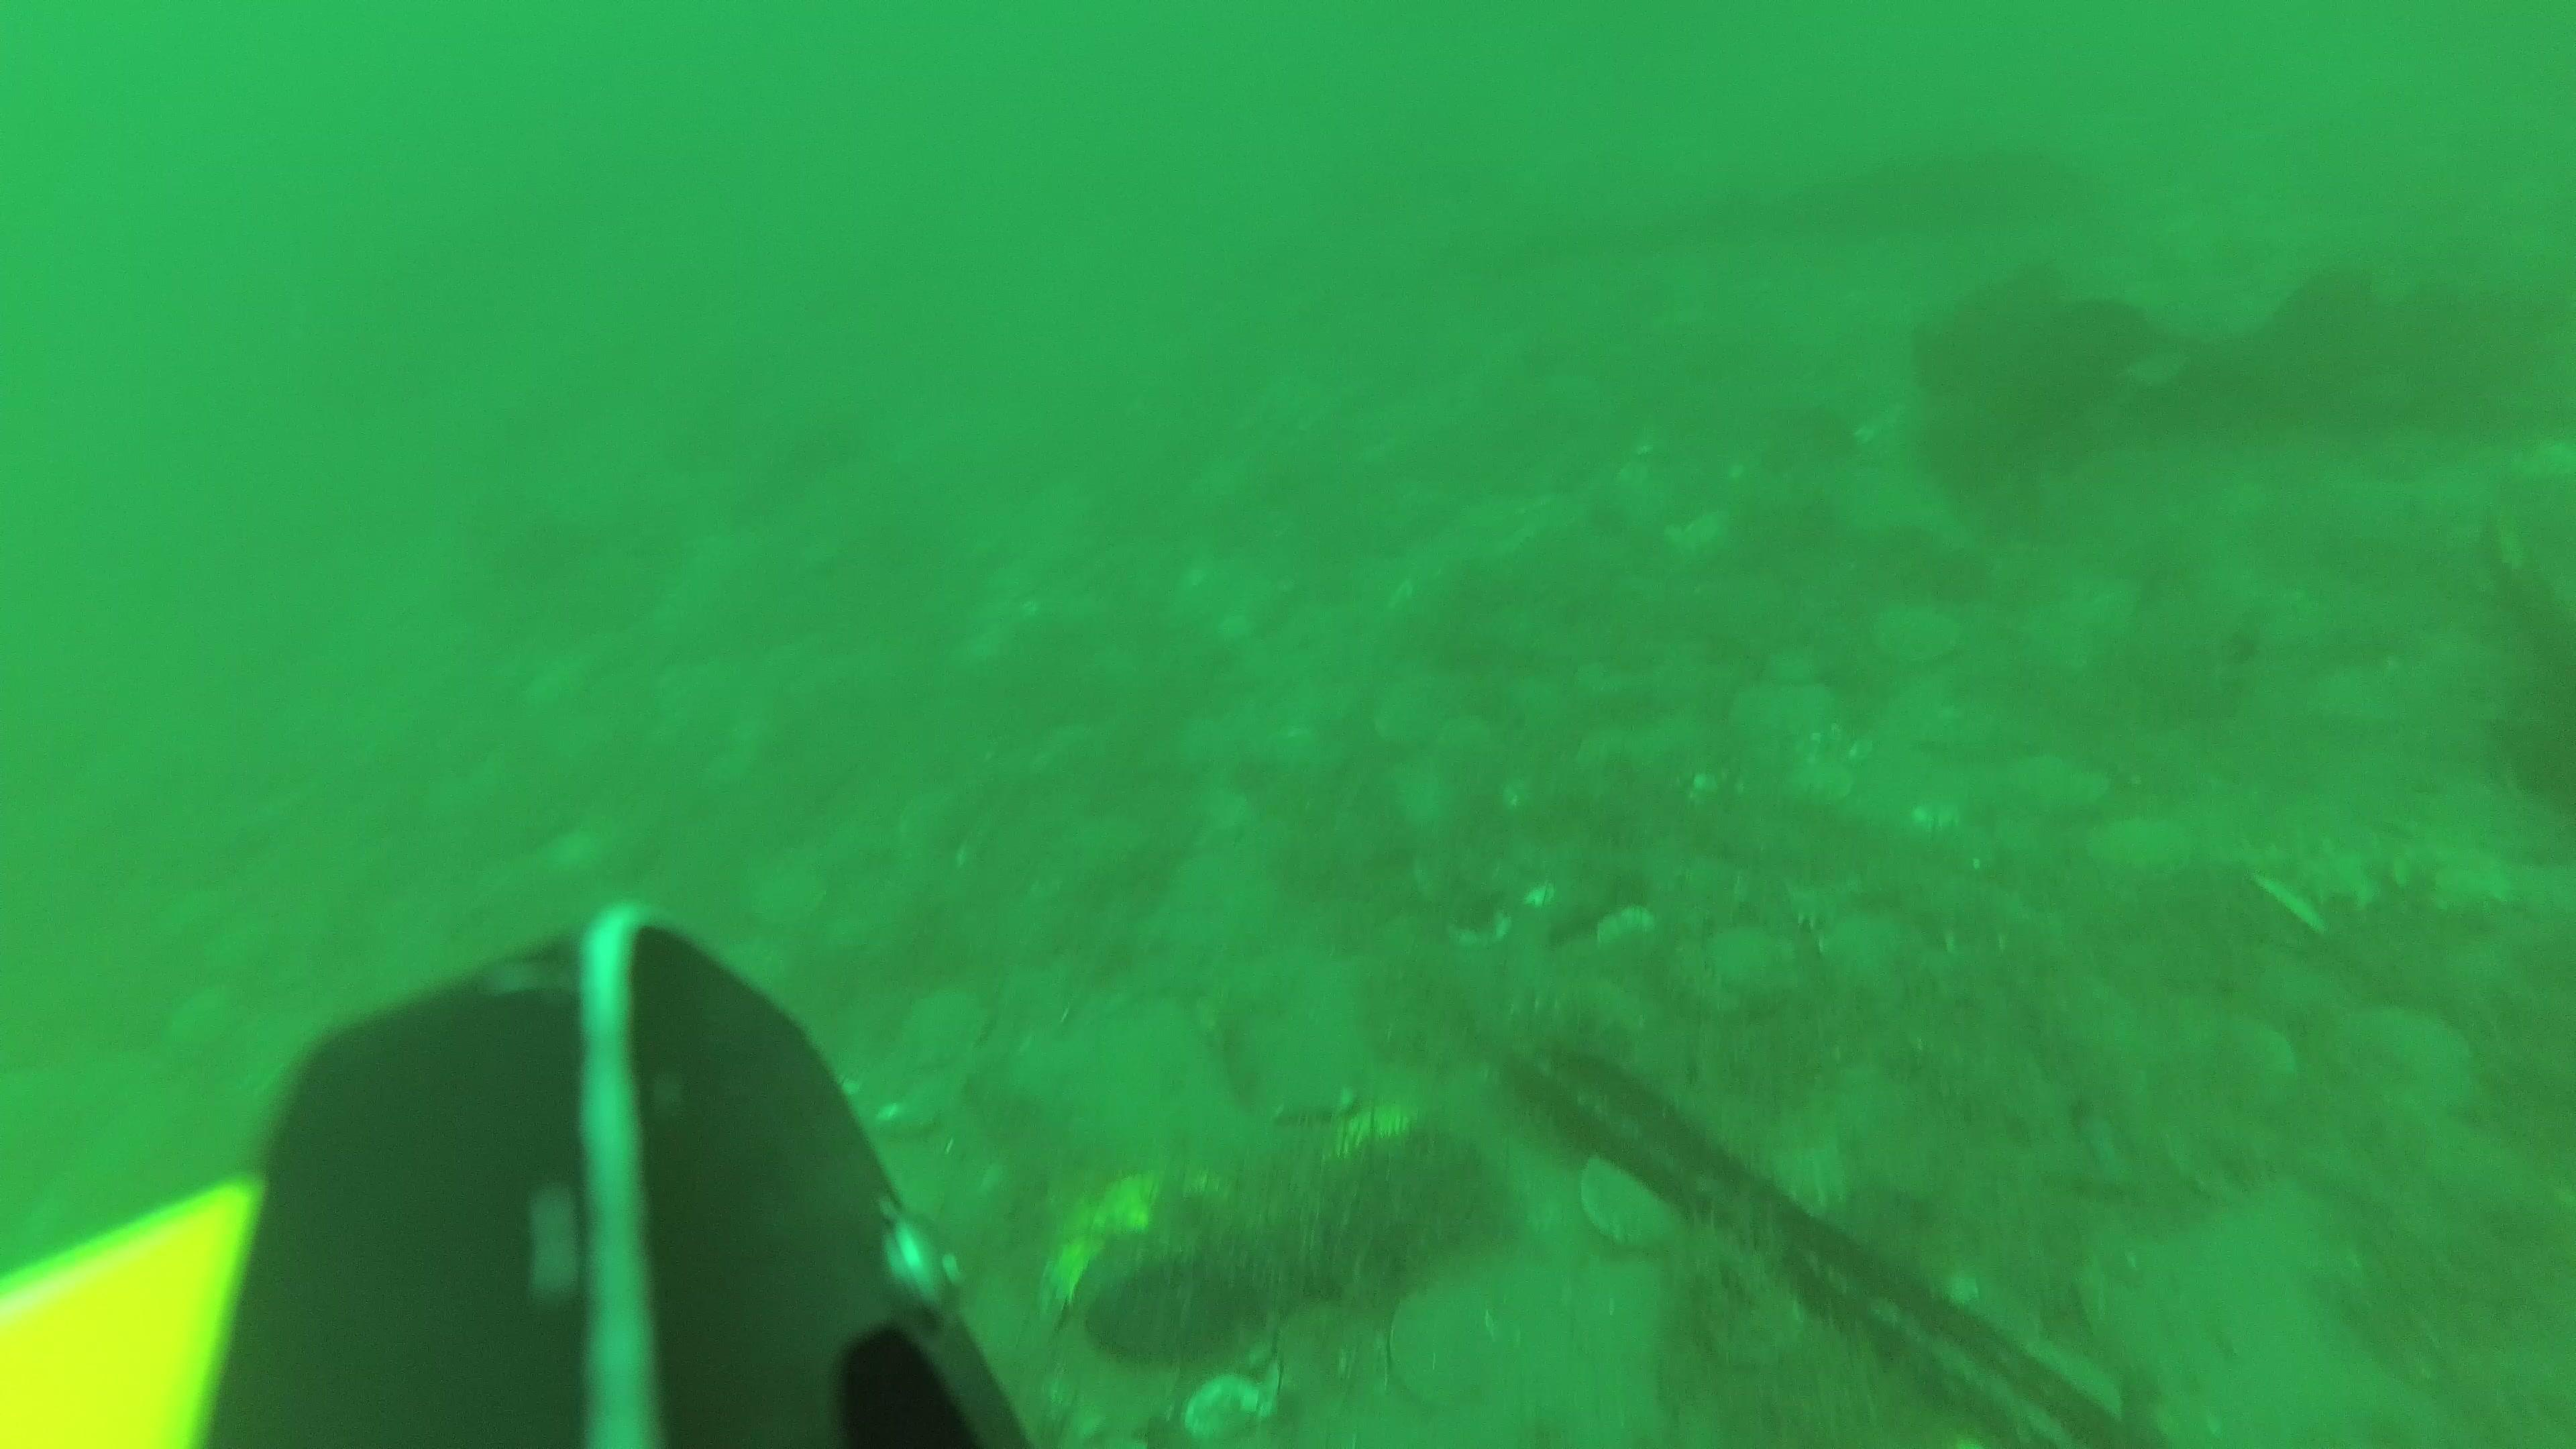scallop: (2348, 1000, 2473, 1118), (1387, 1290, 1491, 1401), (1575, 1157, 1679, 1258), (1874, 596, 1982, 678), (1737, 679, 1842, 755), (2093, 812, 2189, 885), (897, 998, 987, 1072), (741, 860, 833, 932)
